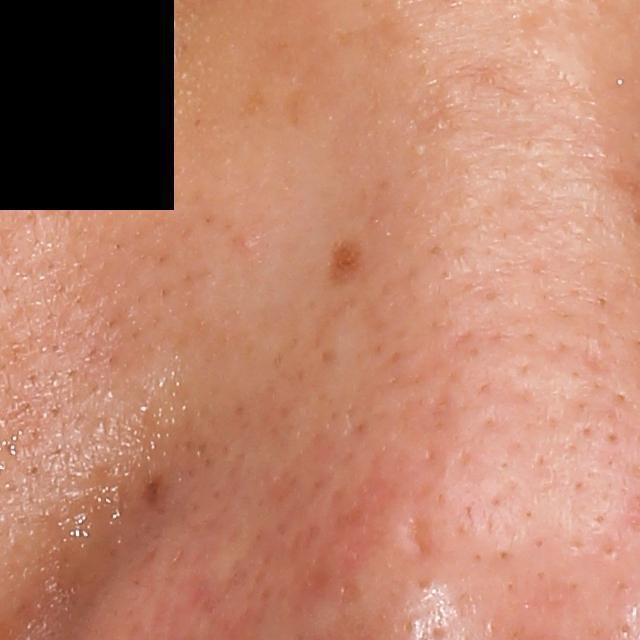atrophic_scar: (405, 507, 437, 559)
comedo: (237, 232, 259, 252)
nevus: (327, 236, 364, 285), (138, 473, 164, 508)
